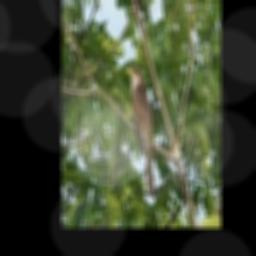Cuckoo: (126, 66, 155, 197)
